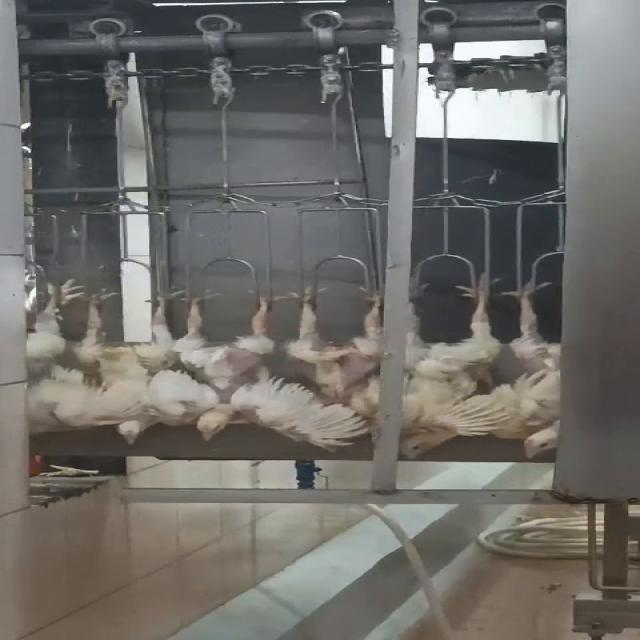chicken: (183, 289, 356, 451), (402, 276, 512, 463), (84, 282, 202, 448), (496, 278, 587, 462), (284, 281, 390, 416), (16, 280, 84, 438)
